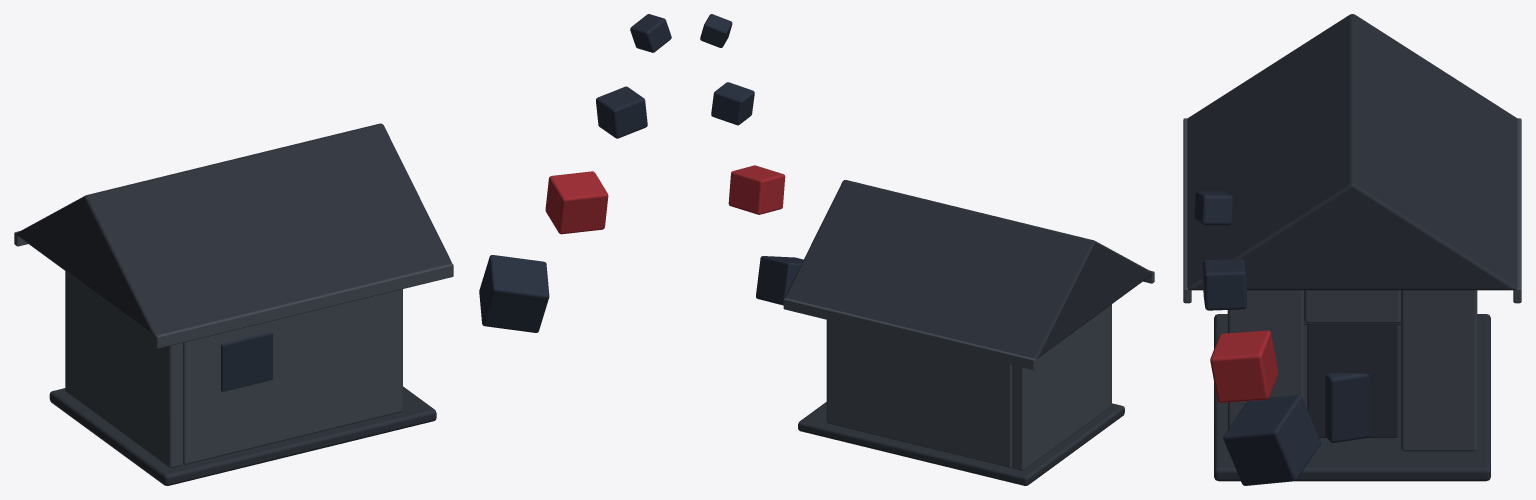
The model's file is house.glb.
The picture shows the model from 3 angles, left to right: view 1: azimuth 30°, elevation 25°; view 2: azimuth 150°, elevation 25°; view 3: azimuth 270°, elevation 25°; orthographic projection. The views are drawn at different scales.
Parts seen in each view (by area): view 1: roof, wallF, wallL, base, lift0, fasciaF, lift1, pier0, winF, lift2, lift3; view 2: roof, wallB, wallL, base, fasciaB, lift1, pier1, lift0, lift2, lift3; view 3: roof, pier1, base, reveal, lift0, pier0, lift1, lintel, inside, lift2, lift3, fasciaB (+1 smaller).
Boxes of the visible parts, x1,y1,x2,y2 form: roof: (16,123,451,335); wallF: (183,294,386,464); wallL: (65,271,182,468); base: (49,386,436,485); lift0: (479,255,549,332); fasciaF: (154,263,453,348); lift1: (545,171,608,234); pier0: (381,289,402,416); winF: (221,332,272,391); lift2: (596,86,647,138); lift3: (630,14,671,52); roof: (785,180,1153,359); wallB: (839,323,1012,467); wallL: (1012,304,1111,470); base: (798,402,1124,485); fasciaB: (783,298,1036,369); lift1: (728,165,785,214); pier1: (826,320,844,426); lift0: (756,256,803,305); lift2: (711,82,754,125); lift3: (700,14,732,47); roof: (1187,14,1517,290); pier1: (1401,290,1477,451); base: (1214,314,1490,481); reveal: (1307,323,1397,437); lift0: (1223,395,1320,485); pier0: (1227,290,1303,429); lift1: (1210,330,1278,402); lintel: (1304,290,1400,323); inside: (1325,373,1370,442); lift2: (1202,259,1246,310); lift3: (1194,191,1233,225); fasciaB: (1513,118,1521,303).
Size of the model in its own units: 5.15 by 3.3 by 2.44.
